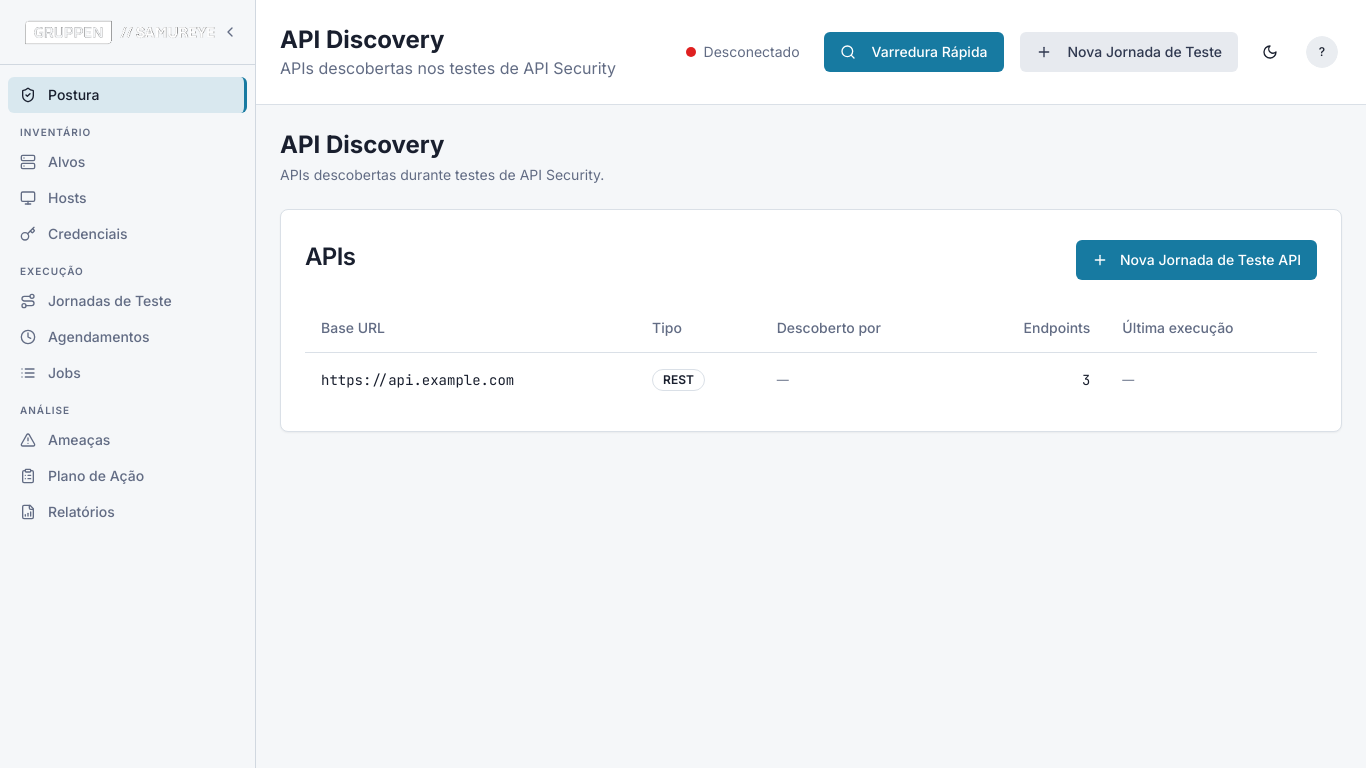
Test: UI-02 — API Endpoint Drilldown Sheet › Sheet opens when selectedApiId prop is set (not null)
Step 1. Click the row with test id "api-row-a1" → (418, 380), box [305, 352, 1317, 406]
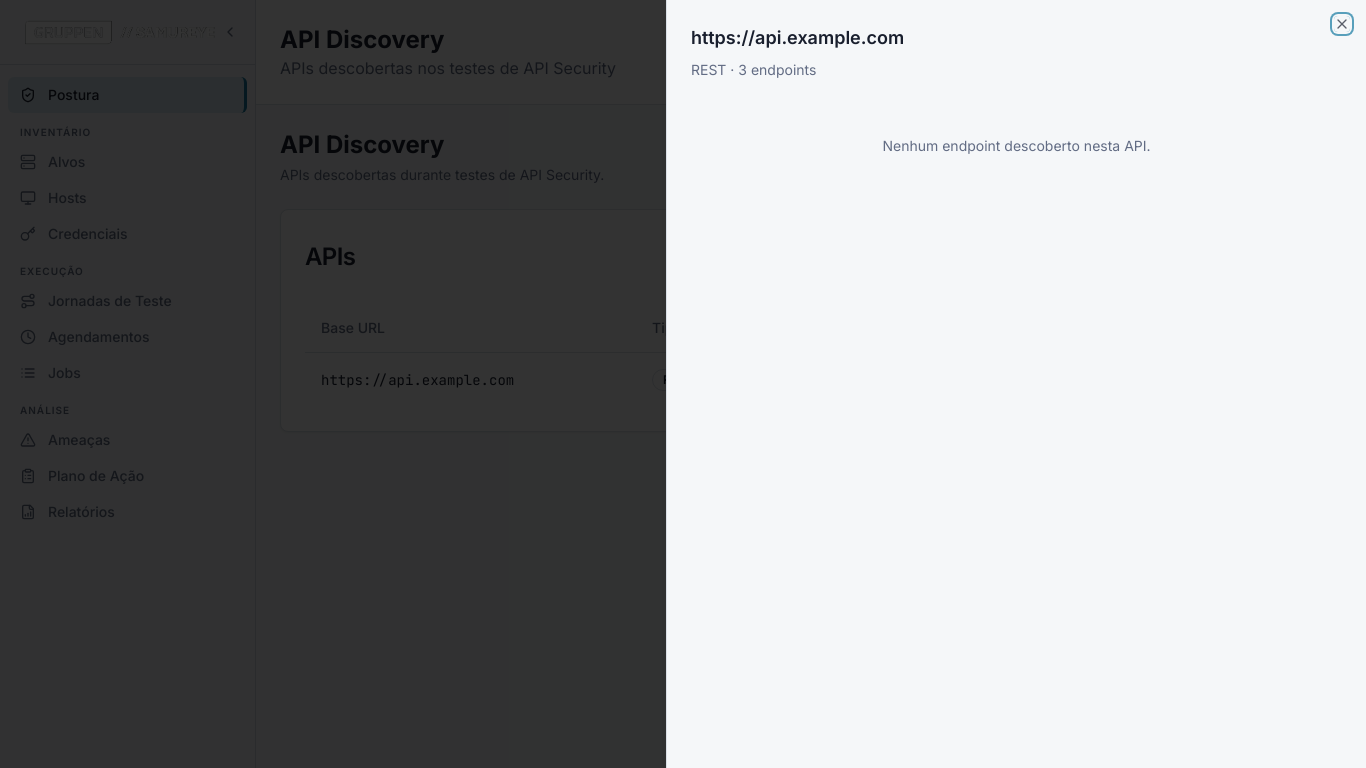
Now the dialog is shown, box [666, 0, 1365, 767]
Now the heading "https://api.example.com" is shown, box [691, 27, 904, 48]
